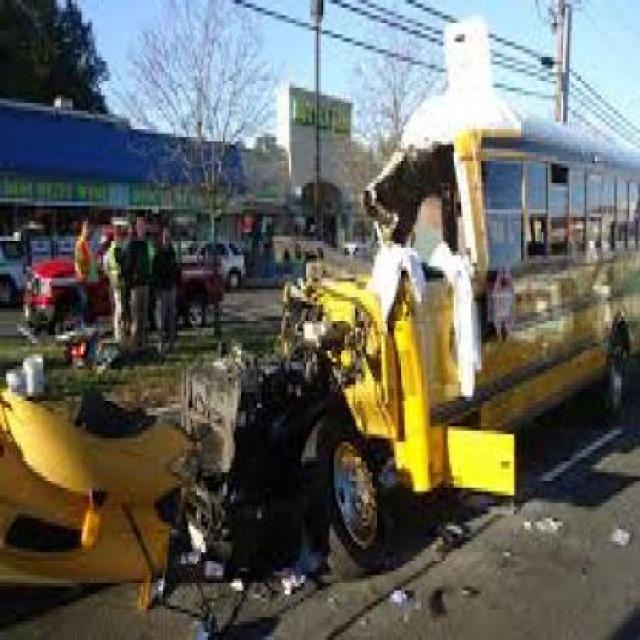accident: (223, 70, 640, 602)
